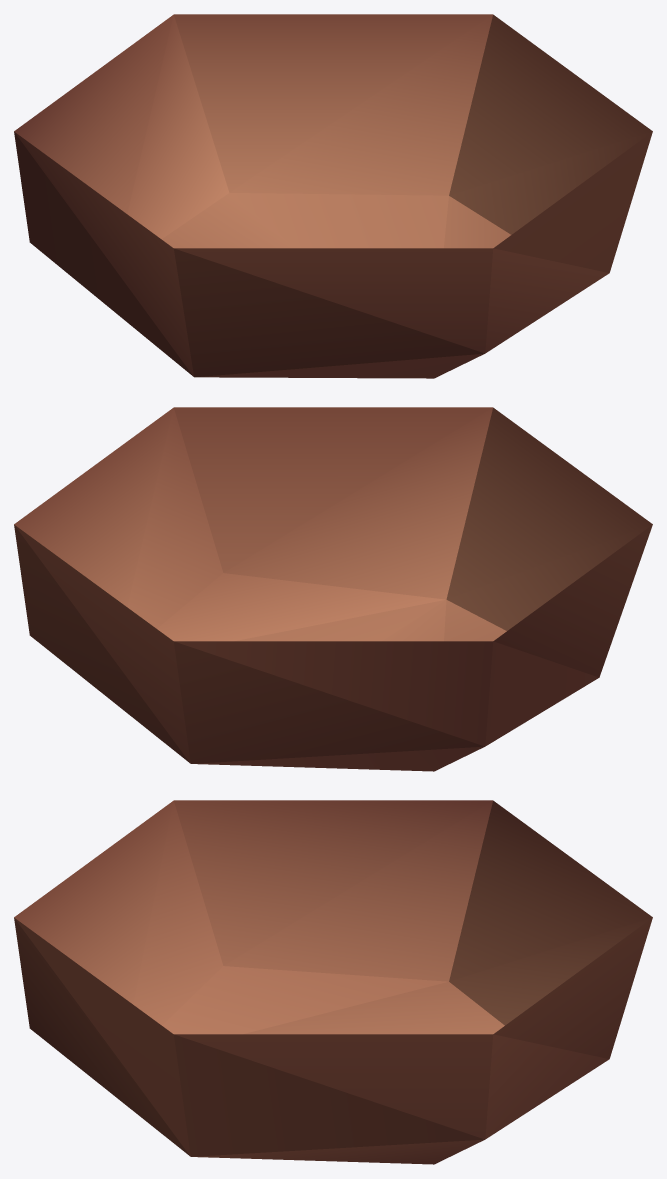
File: Mixed_Bowl_01.fbx
3 views of the same model, one above another, from view 1: azimuth 30°, elevation 25°; view 2: azimuth 150°, elevation 25°; view 3: azimuth 270°, elevation 25° (orthographic).
Parts seen in each view (by area): view 1: Bowl_01.001; view 2: Bowl_01.001; view 3: Bowl_01.001.
Part boxes in pixels (bbox=[...]): Bowl_01.001: bbox=[14, 14, 652, 378]; Bowl_01.001: bbox=[14, 407, 652, 771]; Bowl_01.001: bbox=[14, 800, 652, 1164].
Bounding box in the file's own units: 101 × 34.72 × 116.
